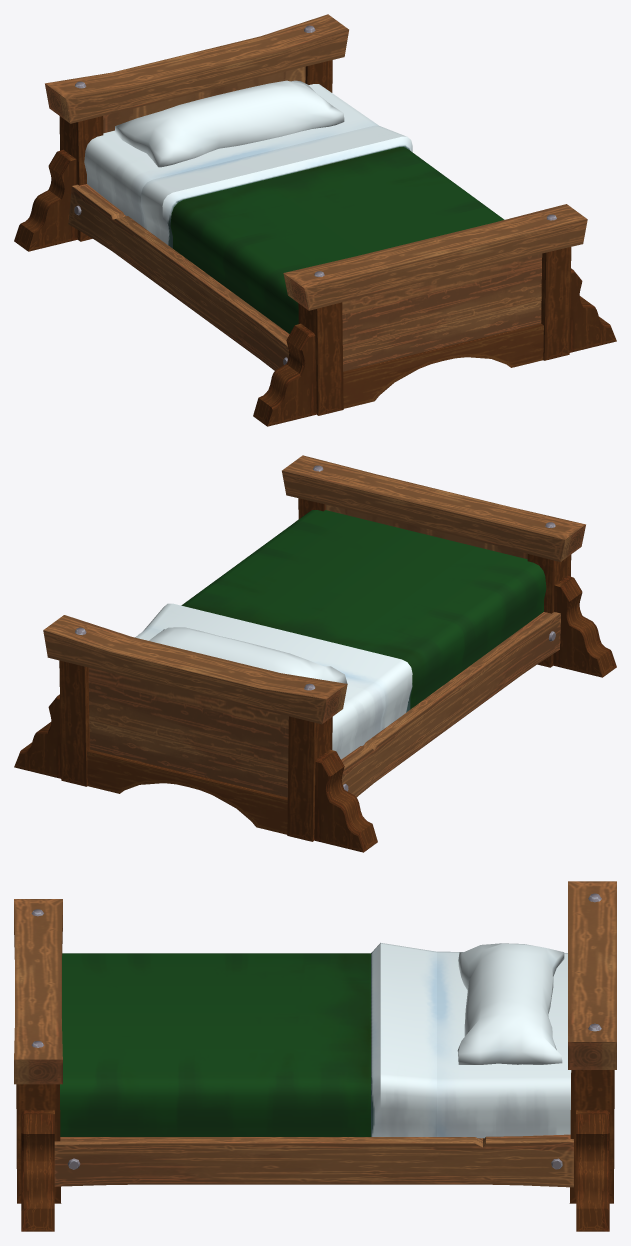
The model's file is bed-twin2.glb.
3 views of the same model, one above another, from view 1: azimuth 30°, elevation 25°; view 2: azimuth 150°, elevation 25°; view 3: azimuth 270°, elevation 25° (orthographic). The views are drawn at different scales.
Visible parts, largest first — view 1: Bed_Twin2; view 2: Bed_Twin2; view 3: Bed_Twin2.
Part boxes in pixels (x1,y1,x2,y2): Bed_Twin2: [14, 14, 616, 426]; Bed_Twin2: [14, 455, 616, 852]; Bed_Twin2: [14, 881, 616, 1231].
Size of the model in its own units: 1.88 by 0.7596 by 2.41.
Materials: 3 (3 with a texture image).
